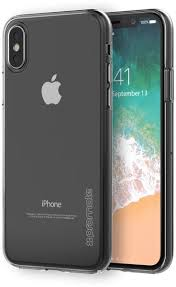iphone: (2, 9, 113, 273)
iphone10: (2, 10, 113, 274)
